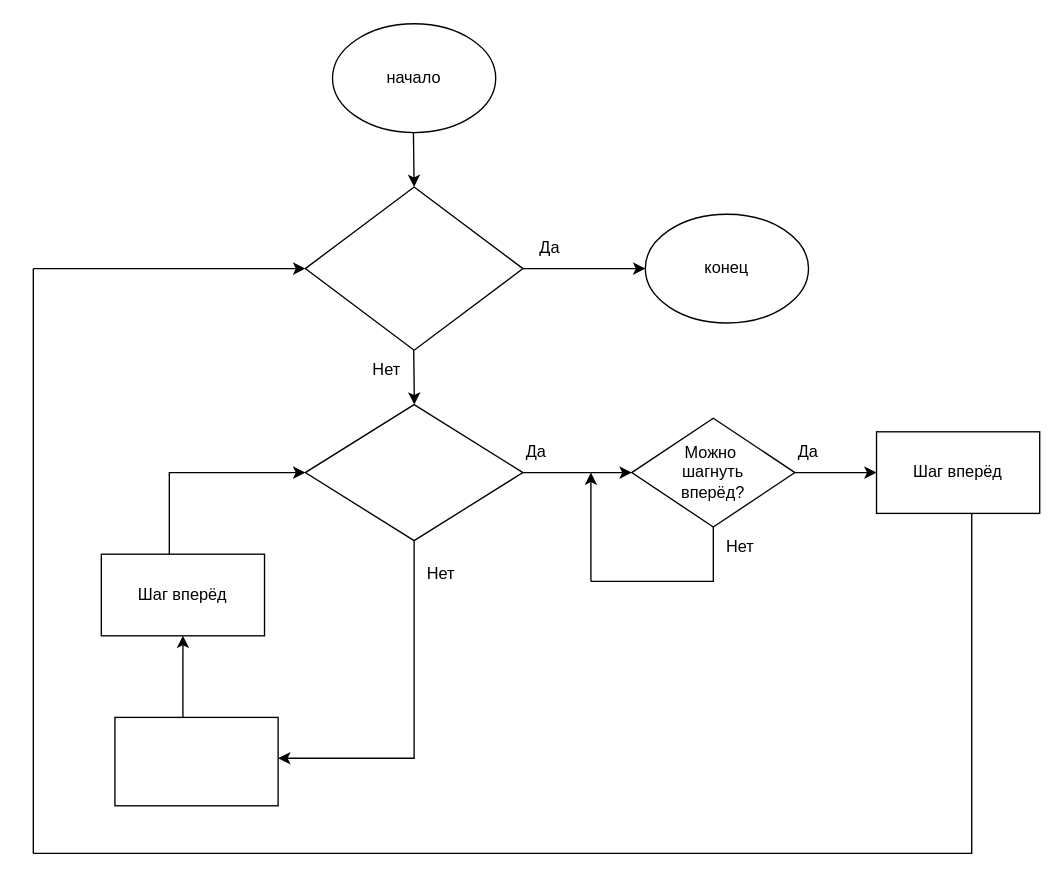
Some shapes in this 1064 by 879 pixel diagram are drawn without their labels. Each missing label, with the centre of its shape:
"Вы вышли из лабиринта?" belongs at pixel 413 268.
"Левая рука касается стены?" belongs at pixel 413 472.
"Повернись налево" belongs at pixel 196 761.
